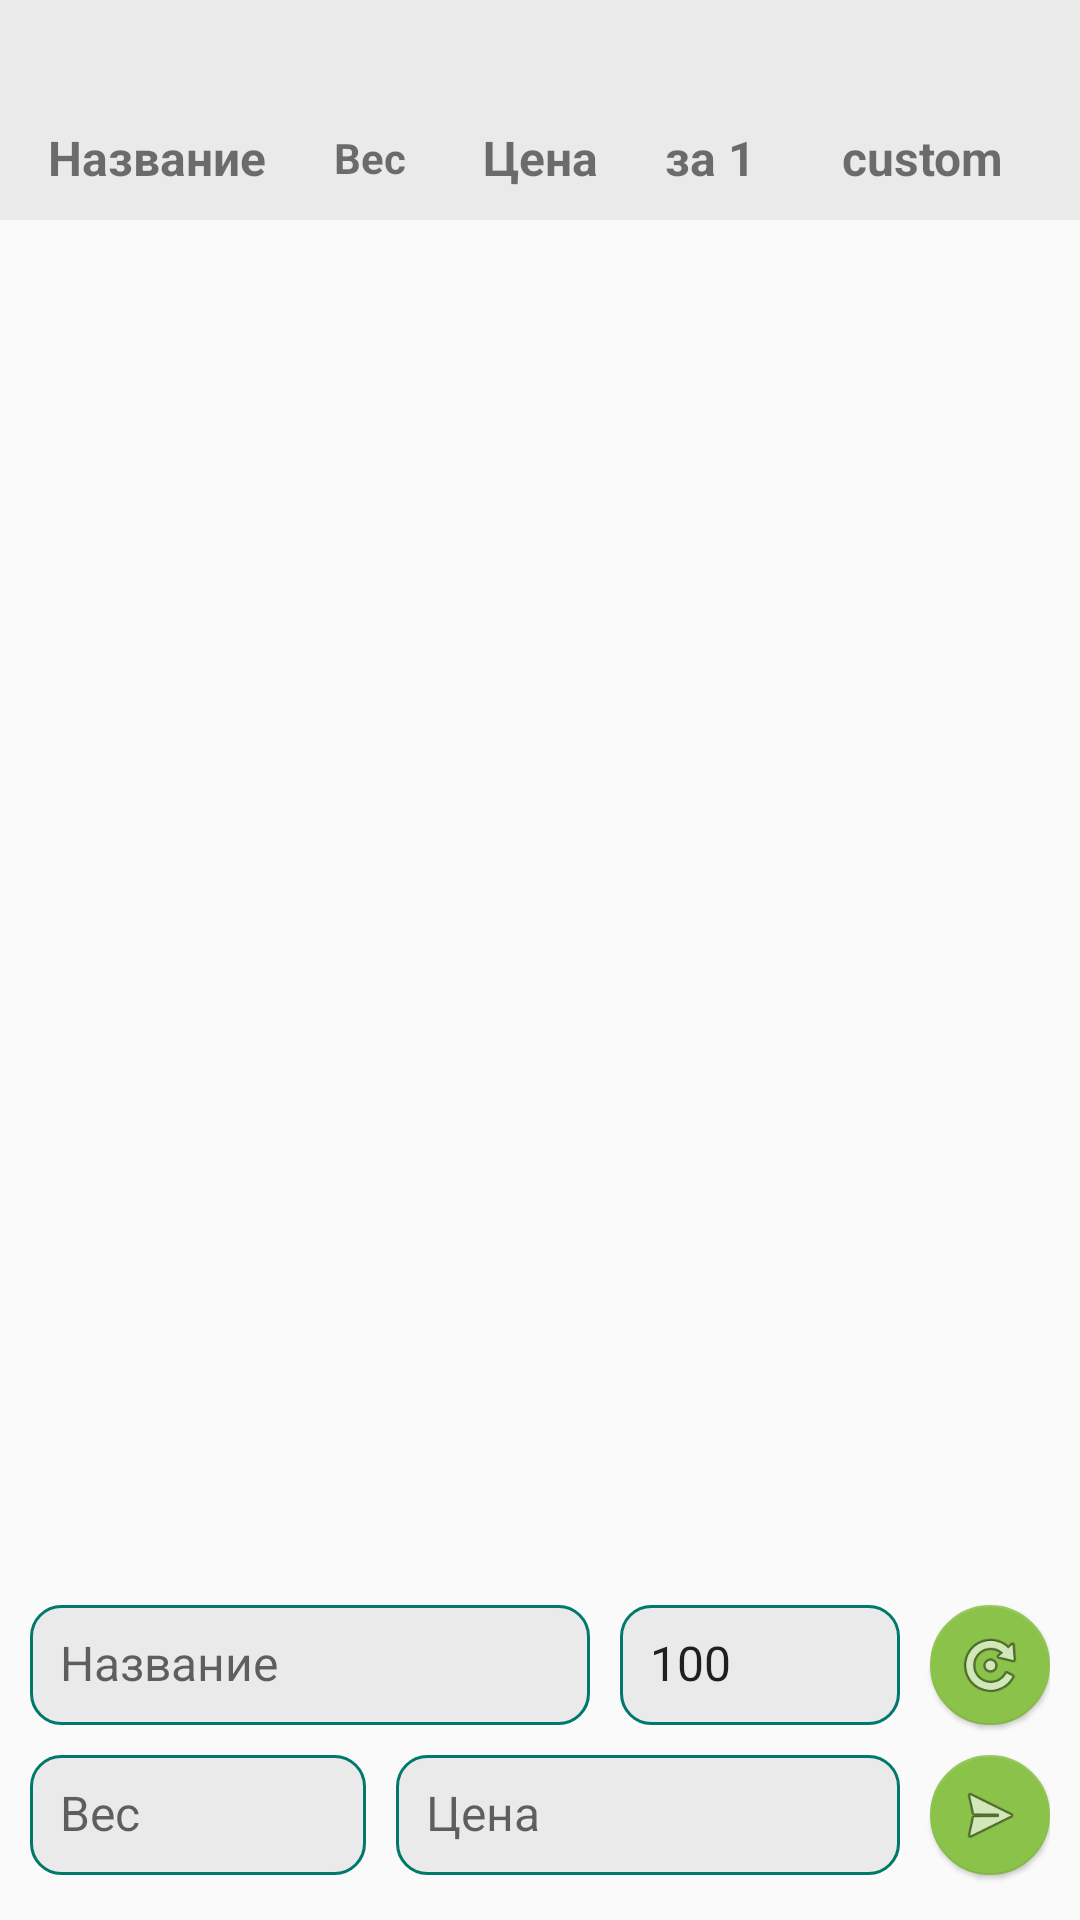

Where to tap for icons on this 1080 x 1920 app screen, as (x=x, y=y):
rotate: (x=990, y=1665)
send: (x=990, y=1815)
